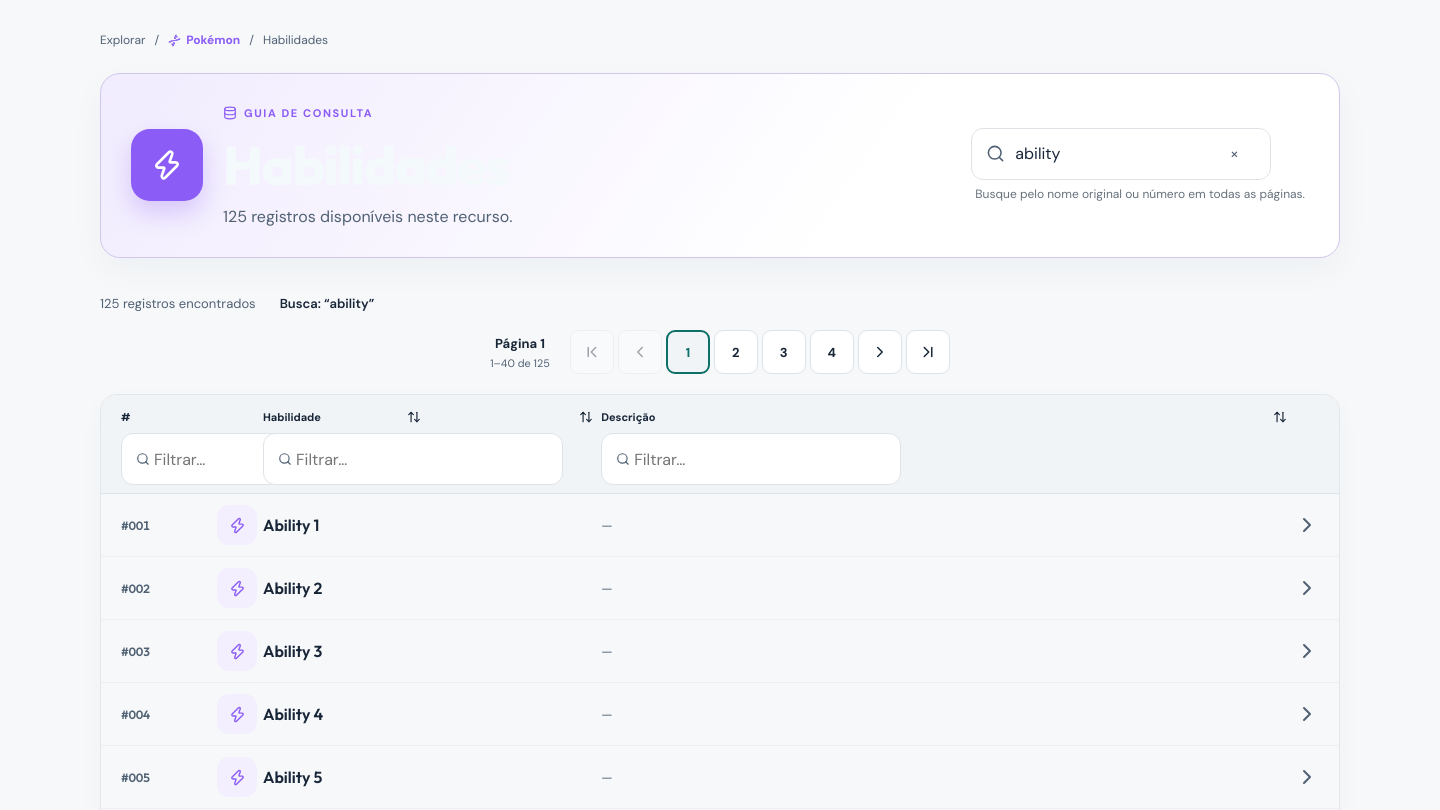
Test case: ResourceListPage pagination › jumps to the last page while preserving the collection search
The width and height of the screenshot is (1440, 810).
What coordinates should you click on to do the following:
click the button named "Última página"
I would click on:
 (928, 352)
Its box is [906, 330, 950, 374].
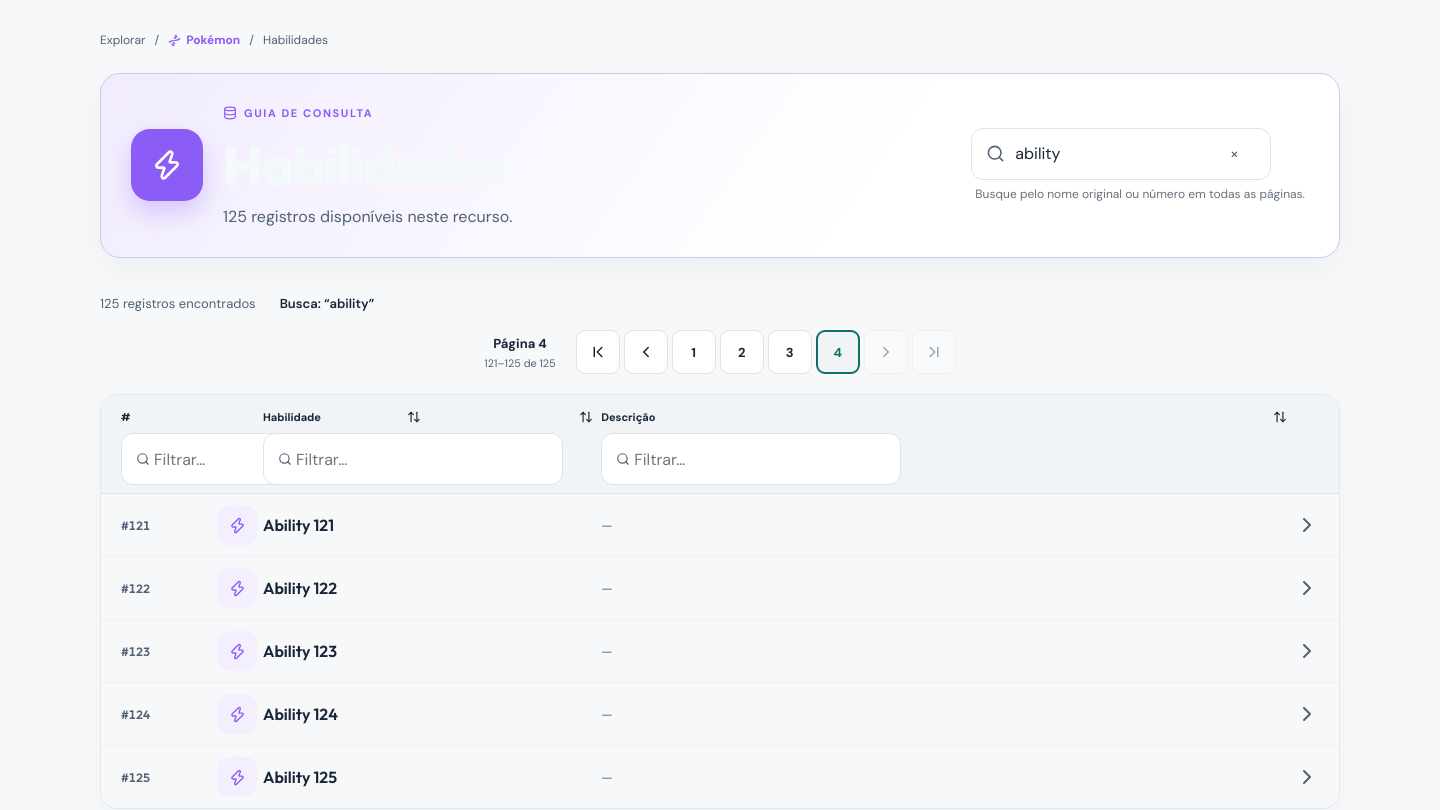
Expected: the field named "Buscar em toda a coleção…" holds "ability", [1005, 143, 1212, 164]
Expected: the text "Página 4" is shown 2 times
Expected: the link "#125 Ability 125 —" is shown, [101, 746, 1339, 808]
